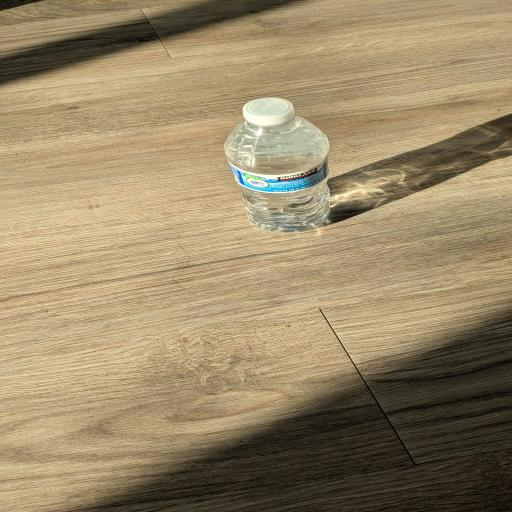waterbottle: (225, 98, 329, 231)
